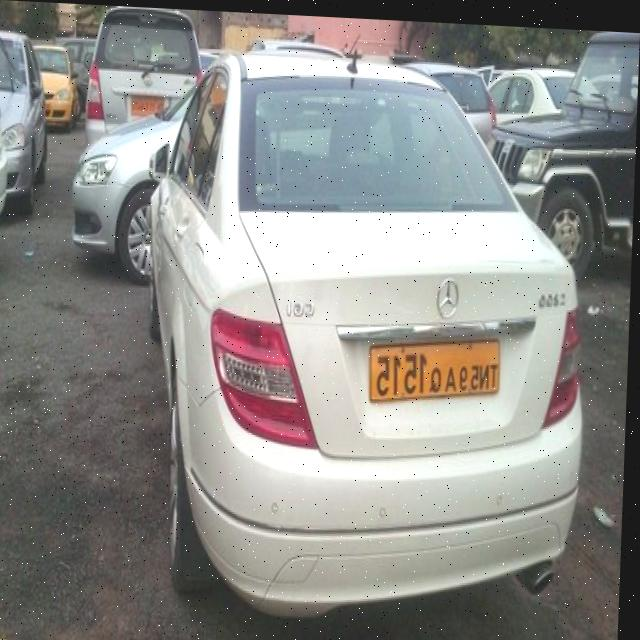plate: (371, 326, 503, 411)
